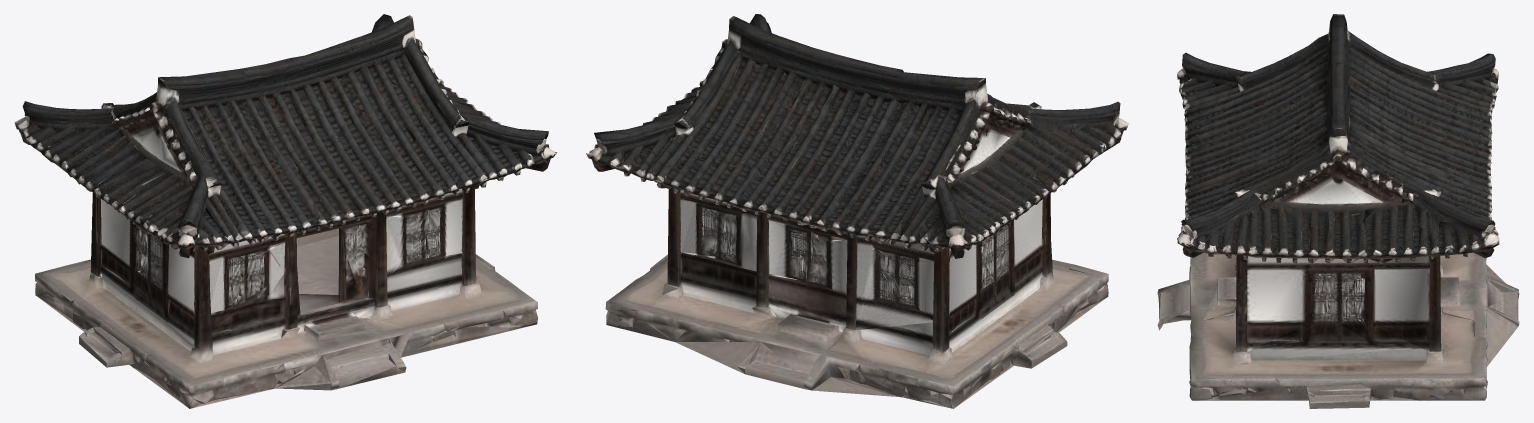
Rendered from giwa.glb.
The picture shows the model from 3 angles, left to right: view 1: azimuth 30°, elevation 25°; view 2: azimuth 150°, elevation 25°; view 3: azimuth 270°, elevation 25°; orthographic projection. The views are drawn at different scales.
Visible parts, largest first — view 1: giwa; view 2: giwa; view 3: giwa.
Boxes of the visible parts, x1,y1,x2,y2 form: giwa: [14, 14, 557, 408]; giwa: [586, 14, 1128, 408]; giwa: [1157, 14, 1519, 408].
Size of the model in its own units: 6.17 by 4 by 5.25.
Materials: 1 (1 with a texture image).
